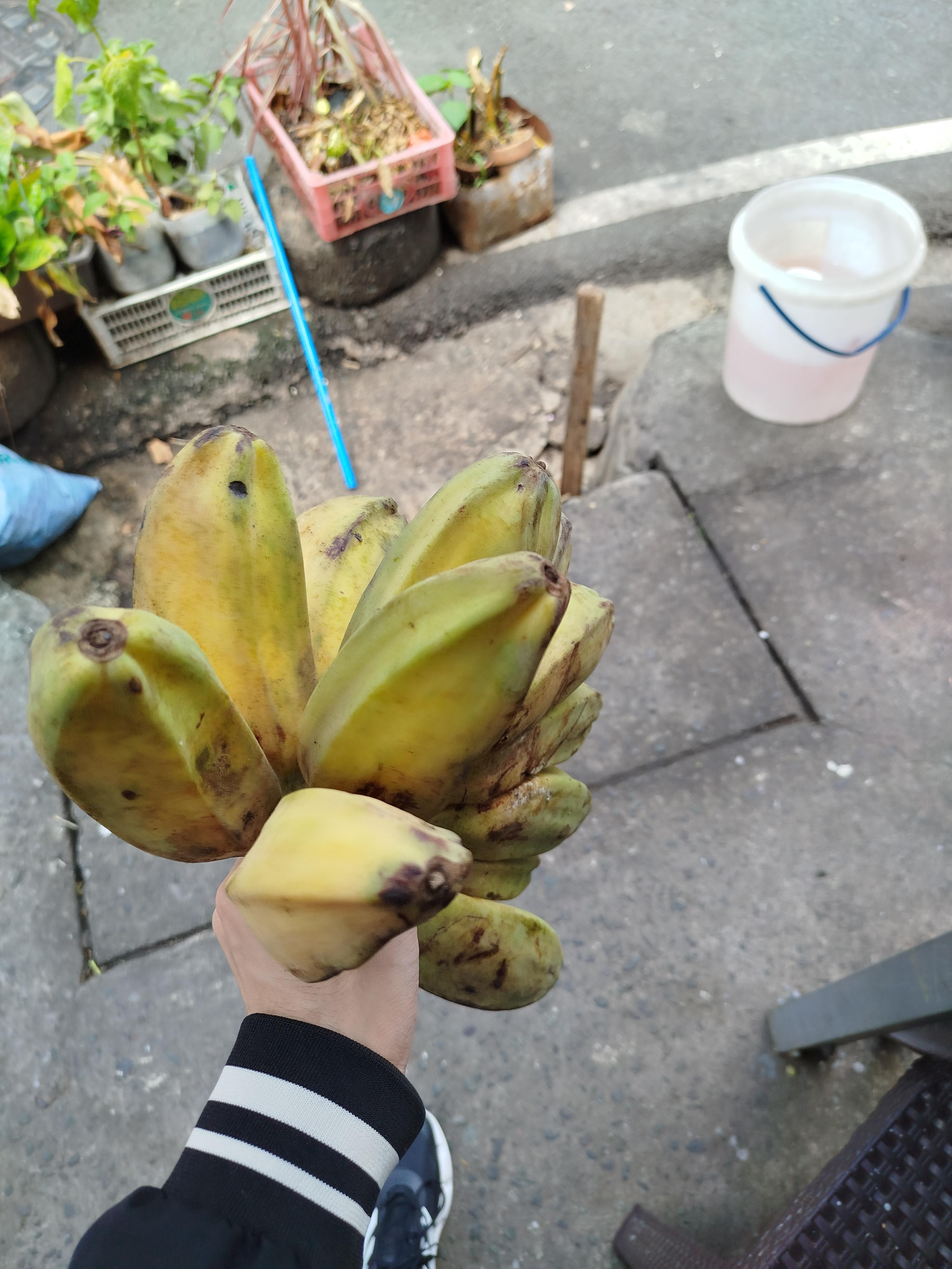underripe: (28, 427, 613, 1009)
